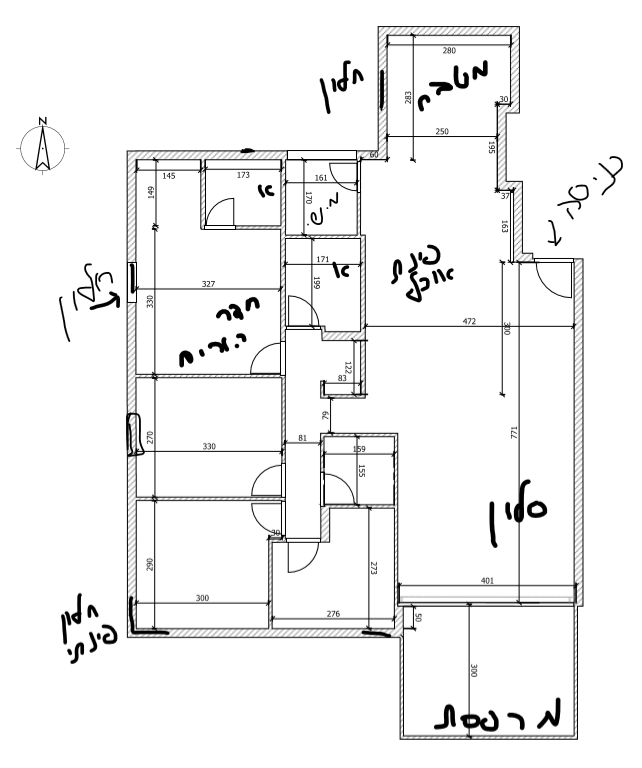door: (532, 267, 574, 308), (283, 542, 323, 576), (246, 461, 280, 498), (320, 465, 354, 502), (246, 342, 277, 374), (206, 196, 236, 221)
